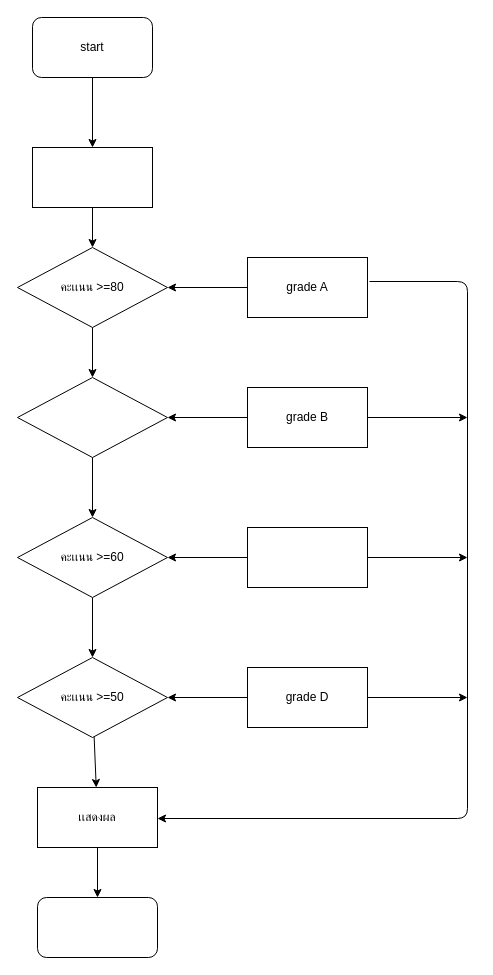
Some shapes in this 493 by 975 pixel diagram are drawn without their labels. The centre of each missing label's shape, as x and y in pixels:
"end" goes at (x=97, y=927).
"grade C" goes at (x=307, y=557).
"คะเเนน >=70" goes at (x=92, y=417).
"ใส่คะเเนน" goes at (x=92, y=177).
